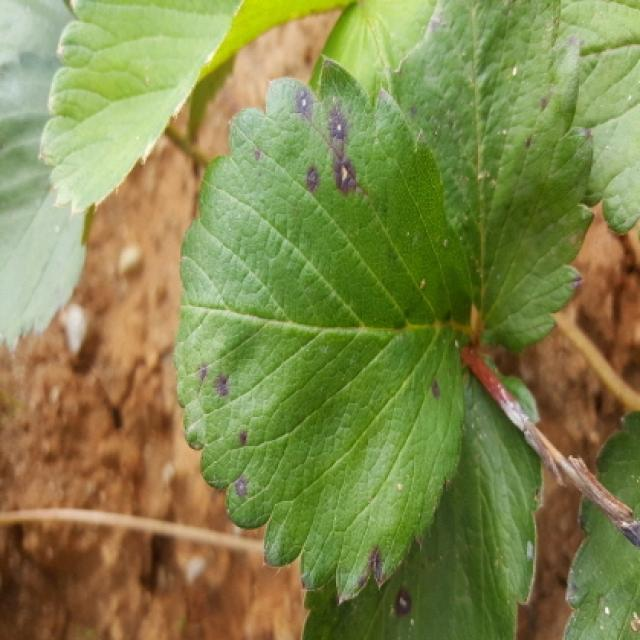Leaf Spot: (174, 53, 472, 603), (389, 0, 598, 352), (299, 352, 546, 638)
